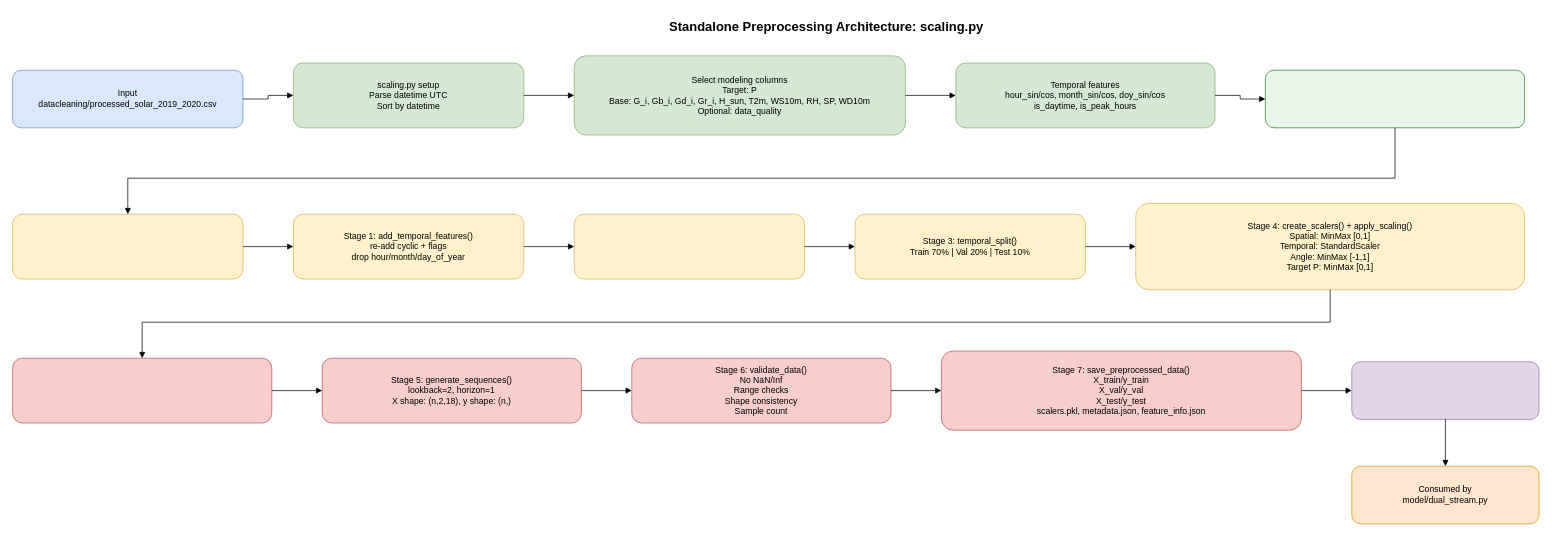
The diagram is 1552 pixels wide and 536 high, and some of its shapes have lost their labels. Each missing label, with the centre of its shape:
"Feature columns (18) 4 spatial + 4 temporal + 2 angle + 6 cyclic + 2 flags" belongs at pixel 142 390.
"Output Folder preprocessing/preprocessed_data/" belongs at pixel 1445 390.
"Prepared modeling dataframe (in-memory, no intermediate CSV)" belongs at pixel 1395 98.
"scaling.py main() Load cleaned CSV Select modeling columns" belongs at pixel 127 246.
"Stage 2: filter_data() USE_DAYTIME_ONLY: G_i > 0 optional MIN_DATA_QUALITY" belongs at pixel 689 246.
